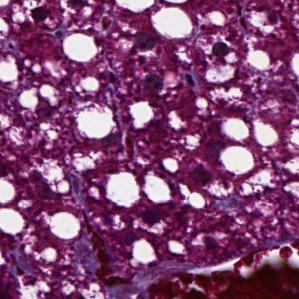steatosis: (151, 4, 194, 43), (104, 170, 141, 208), (219, 145, 258, 175), (62, 33, 98, 62)
